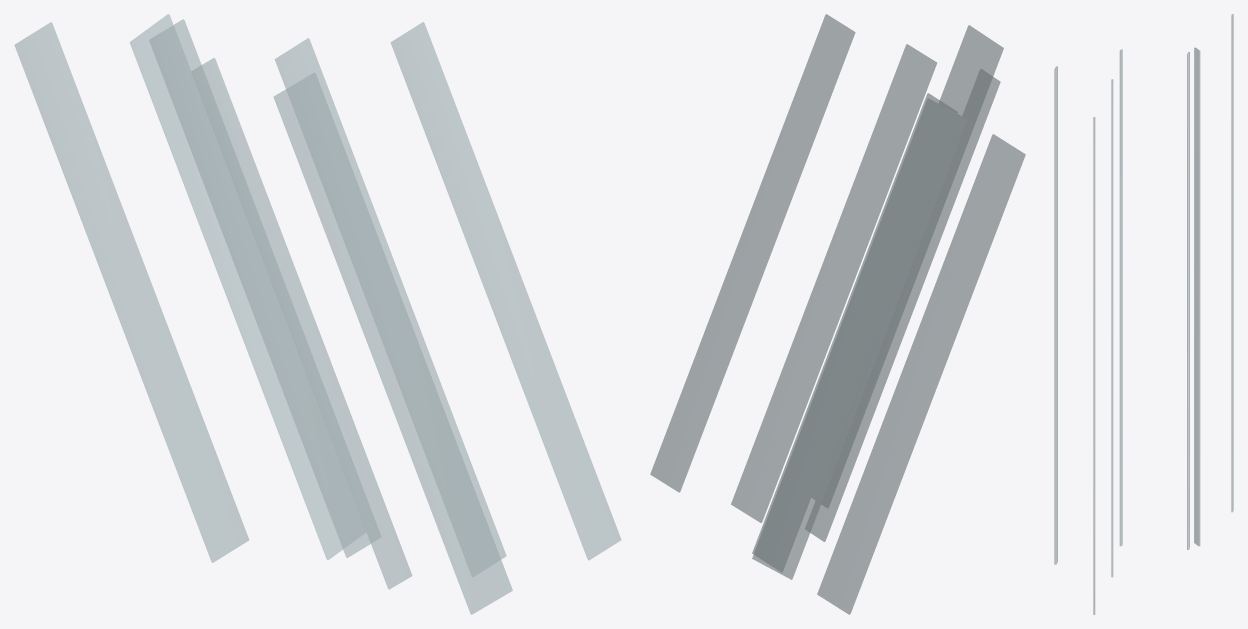
The model's file is lake-shafts-shallows-0.glb.
3 views of the same model, side by side, from view 1: azimuth 30°, elevation 25°; view 2: azimuth 150°, elevation 25°; view 3: azimuth 270°, elevation 25° (orthographic). The views are drawn at different scales.
Parts seen in each view (by area): view 1: lake-shafts-shallows-0; view 2: lake-shafts-shallows-0; view 3: lake-shafts-shallows-0.
Boxes of the visible parts, x1=… form: lake-shafts-shallows-0: x1=14, y1=14, x2=621, y2=614; lake-shafts-shallows-0: x1=650, y1=14, x2=1025, y2=614; lake-shafts-shallows-0: x1=1054, y1=14, x2=1233, y2=614.
Bounding box in the file's own units: 4.47 × 4.83 × 1.8.
